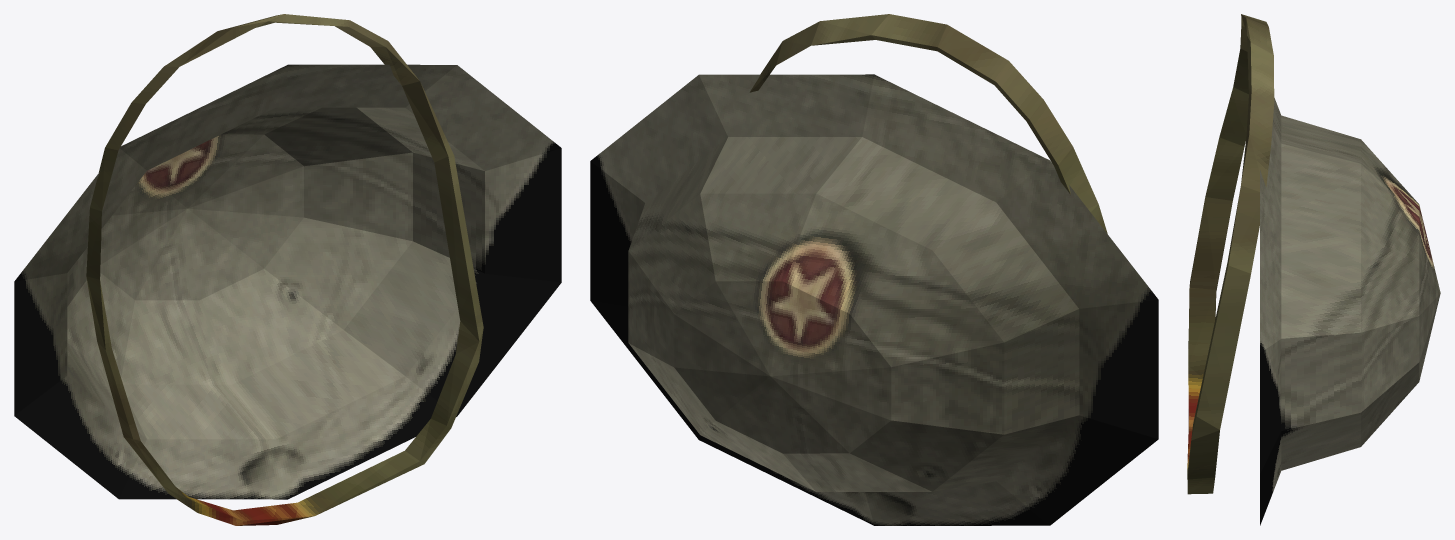
Rendered from pith_faded.glb.
3 renders of one model, left to right at view 1: azimuth 30°, elevation 25°; view 2: azimuth 150°, elevation 25°; view 3: azimuth 270°, elevation 25°, orthographic. The views are drawn at different scales.
Parts seen in each view (by area): view 1: pith_faded, pith_faded_band; view 2: pith_faded, pith_faded_band; view 3: pith_faded, pith_faded_band.
Boxes of the visible parts, box(x1,y1,x2,y2) form: pith_faded: box(14, 64, 561, 499); pith_faded_band: box(86, 14, 483, 525); pith_faded: box(590, 74, 1158, 525); pith_faded_band: box(749, 14, 1107, 233); pith_faded: box(1260, 98, 1440, 525); pith_faded_band: box(1187, 14, 1274, 494).
Size of the model in its own units: 0.3095 by 0.266 by 0.1377.
2 materials, 2 textured.
